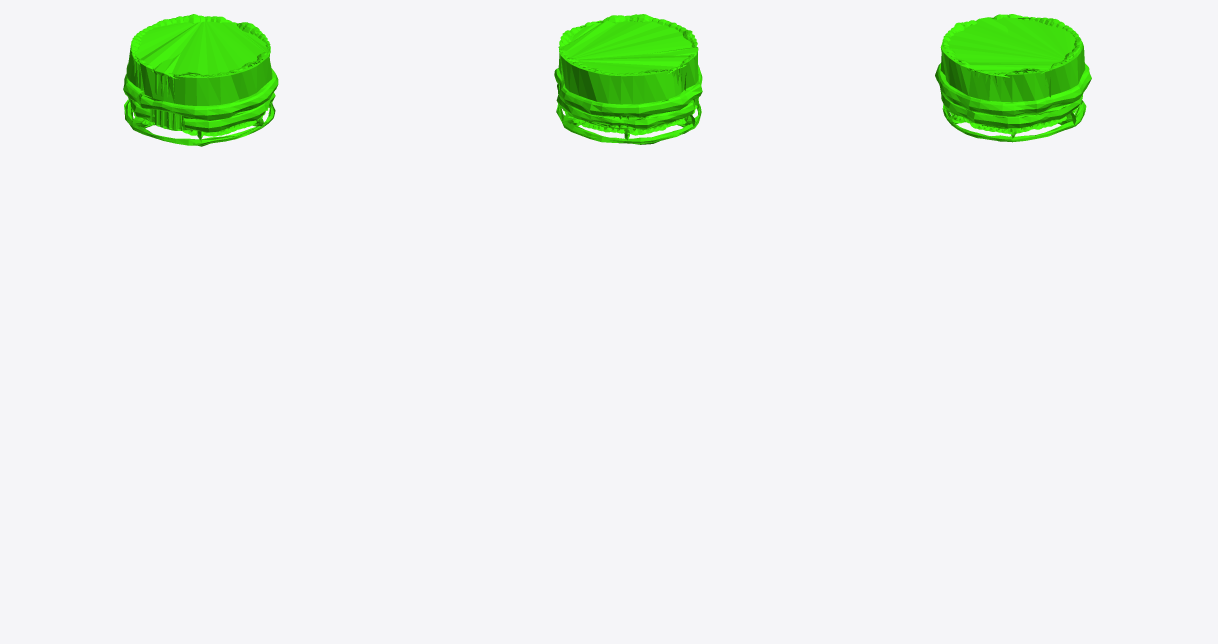
Rendered from crush_medium_0.obj.
3 renders of one model, left to right at view 1: azimuth 30°, elevation 25°; view 2: azimuth 150°, elevation 25°; view 3: azimuth 270°, elevation 25°, orthographic.
Visible parts, largest first — view 1: model; view 2: model; view 3: model.
Boxes of the visible parts, bbox=[...] form: model: bbox=[123, 14, 278, 146]; model: bbox=[554, 14, 702, 144]; model: bbox=[935, 14, 1091, 142].
Size of the model in its own units: 0.1202 by 0.1827 by 0.1164.
Materials: 1 (1 with a texture image).
